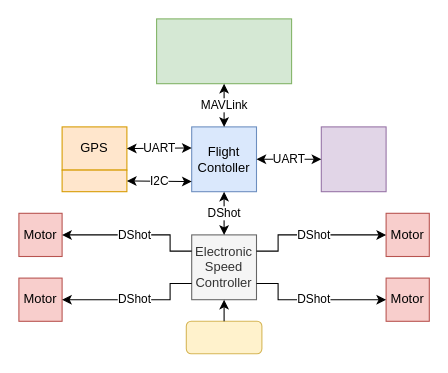
Some shapes in this 448 by 373 pixel diagram are drawn without their labels. Each missing label, with the centre of its shape:
Battery: point (223, 337)
Compass: point (94, 180)
Raspberry Pi (autonomous control): point (224, 51)
Receiver (manual control): point (353, 159)
